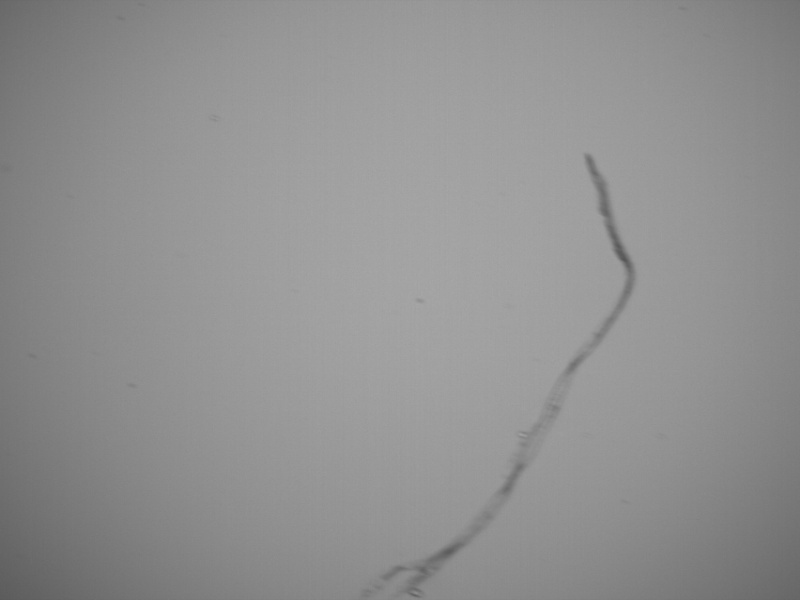fiber: (364, 151, 639, 600)
